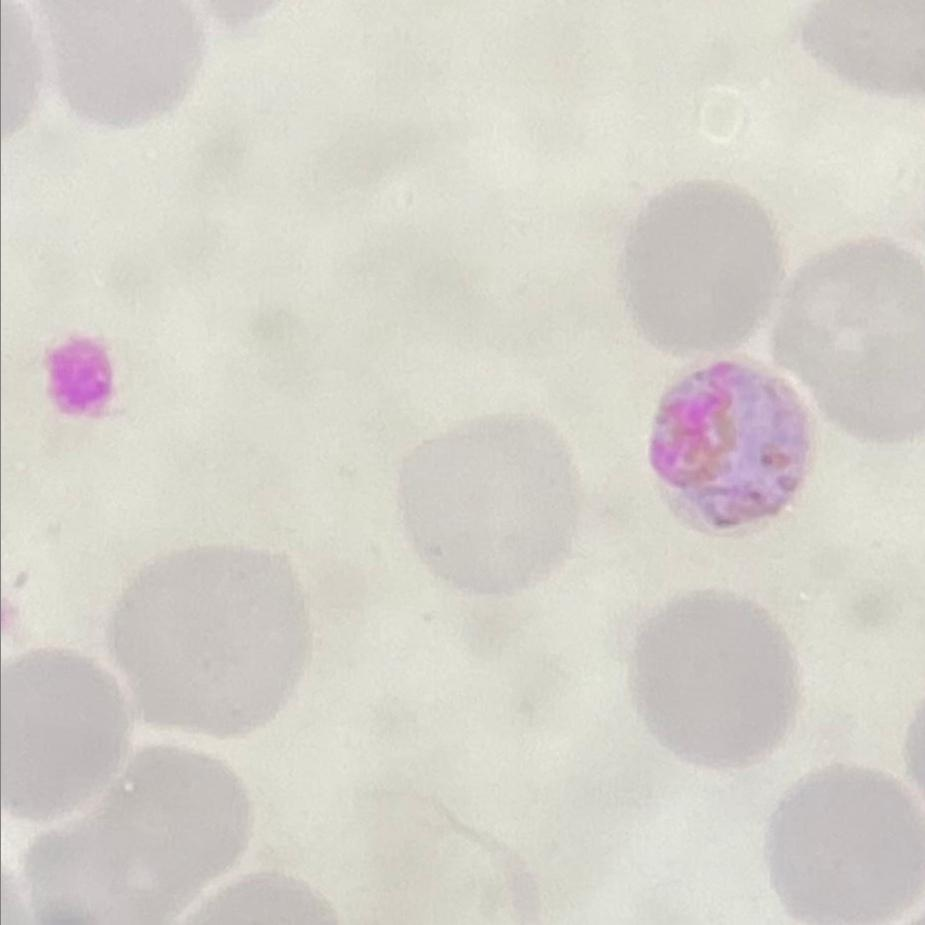Infected: (650, 361, 809, 537)
Uninfected: (27, 743, 249, 925), (107, 541, 299, 737), (398, 408, 582, 602), (633, 583, 801, 777), (778, 238, 925, 440), (628, 178, 772, 354), (762, 771, 925, 925), (2, 646, 129, 817), (43, 0, 201, 127)
